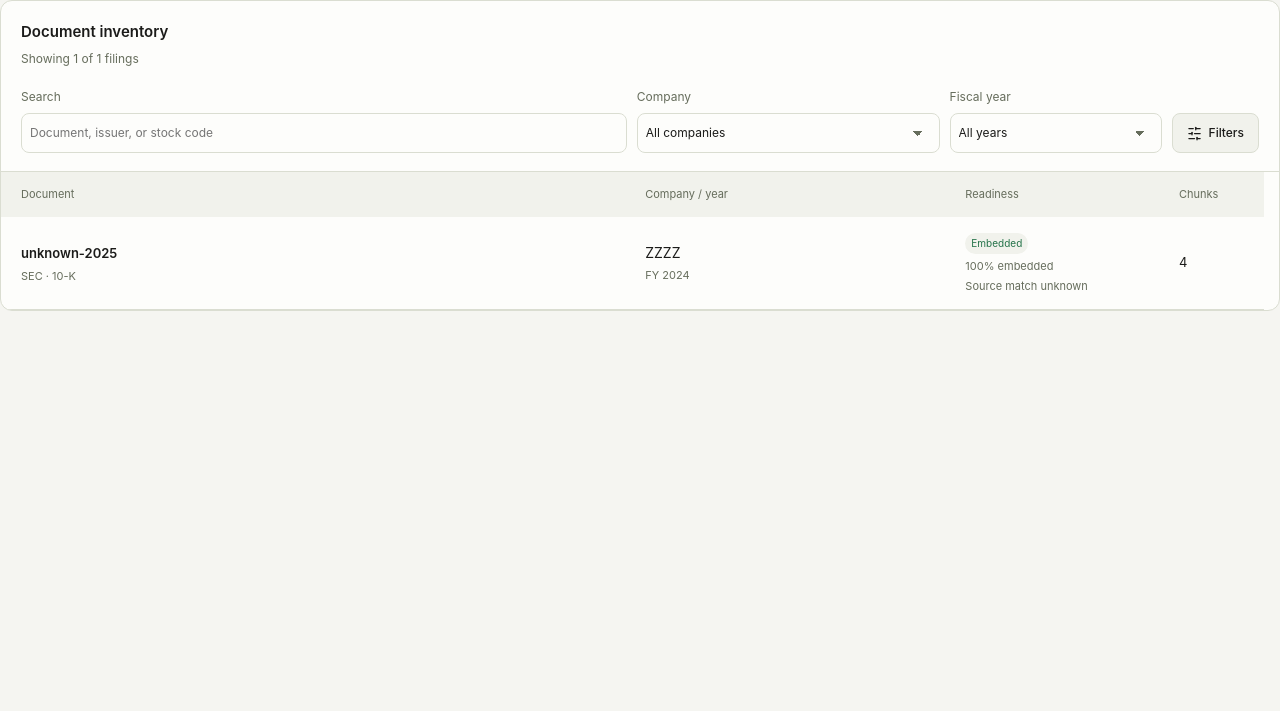
Scenario: DocumentInventory › keeps an unknown company code unchanged across the list, detail and filters
Expected: the text "ZZZZ" is shown, left=645, top=244, right=680, bottom=261
Click the button "unknown-2025" at (69, 254), box left=21, top=244, right=117, bottom=264
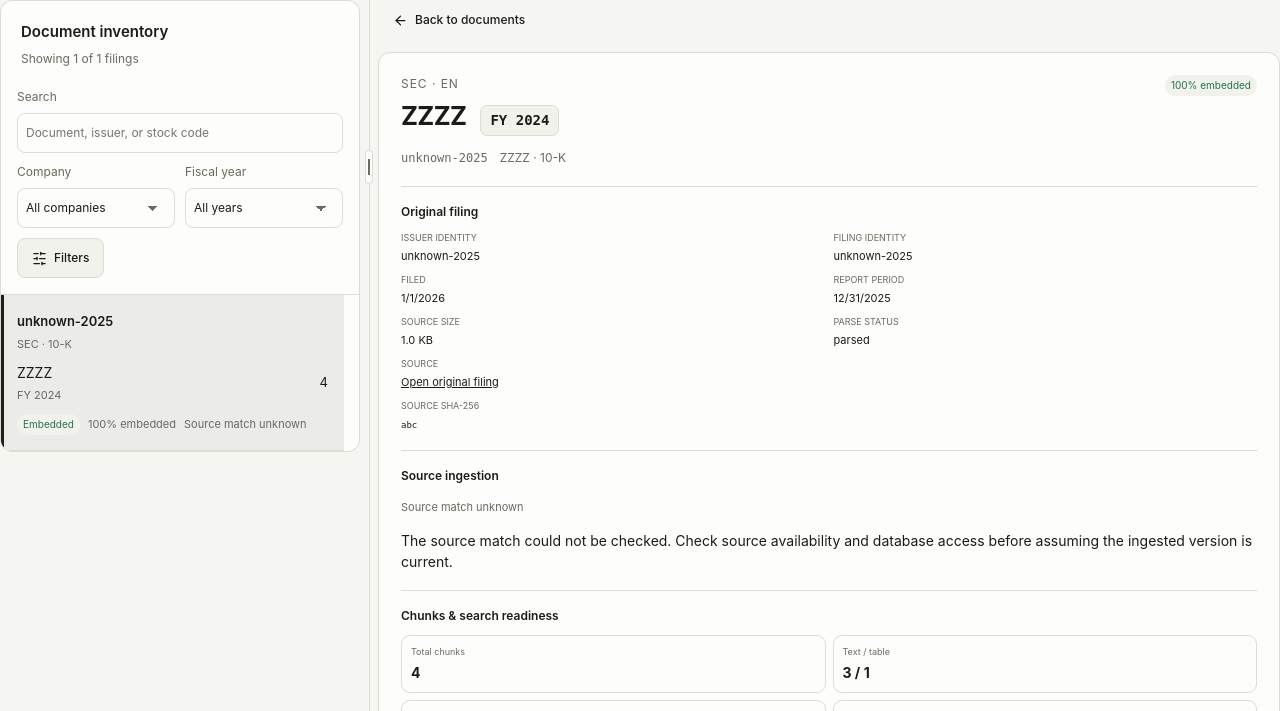
Now the heading "ZZZZ" is shown, box left=401, top=100, right=466, bottom=132
Select "ZZZZ (1)" in the dropdown named "Filter company" at (96, 208), box left=17, top=188, right=175, bottom=228
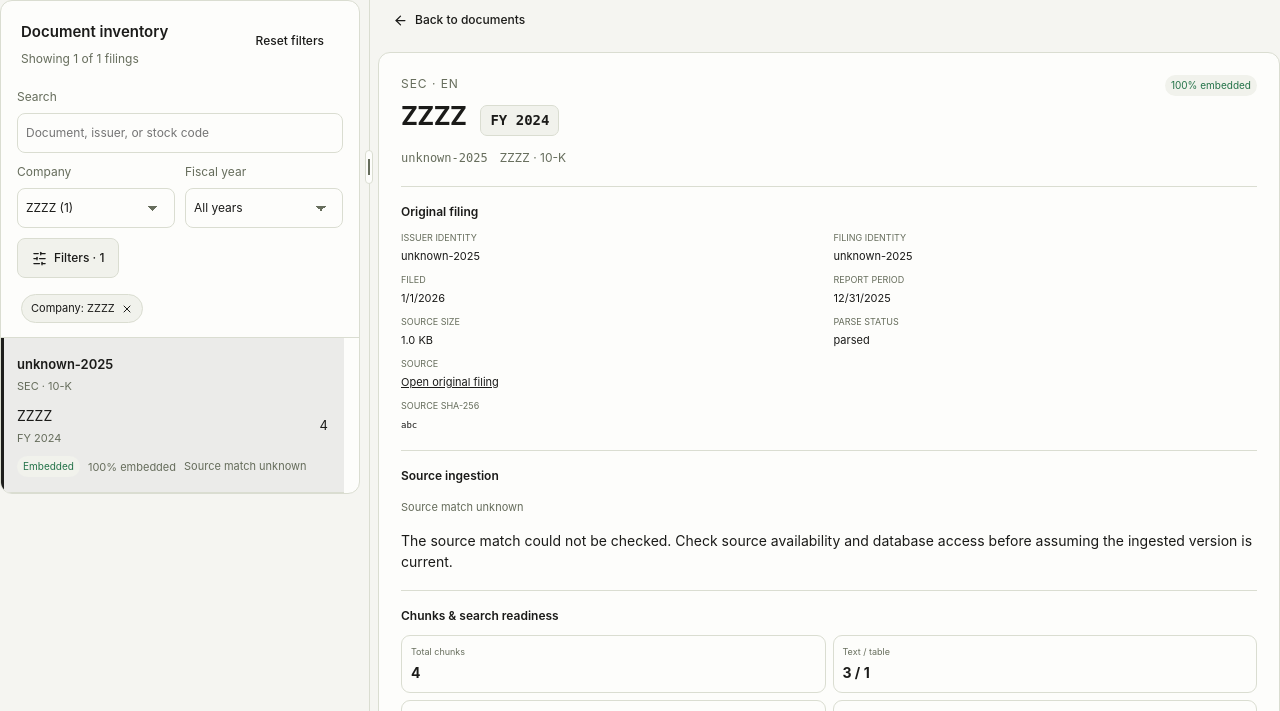
Now the button with aria-label "Remove filter: Company" reads "Company: ZZZZ", box left=21, top=294, right=143, bottom=323
